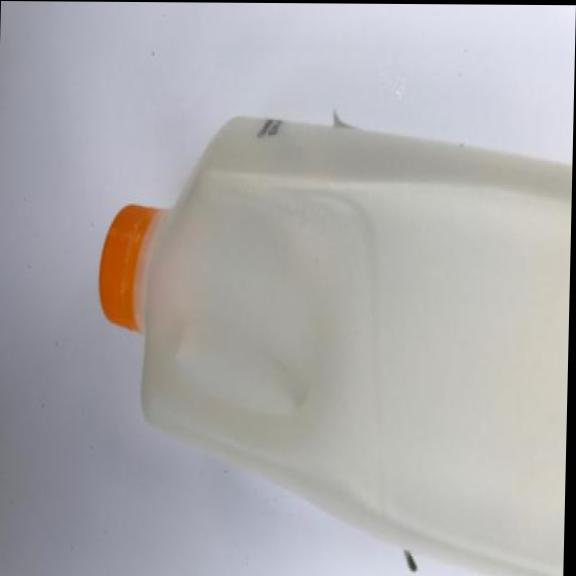Plastik: (90, 111, 573, 576)
